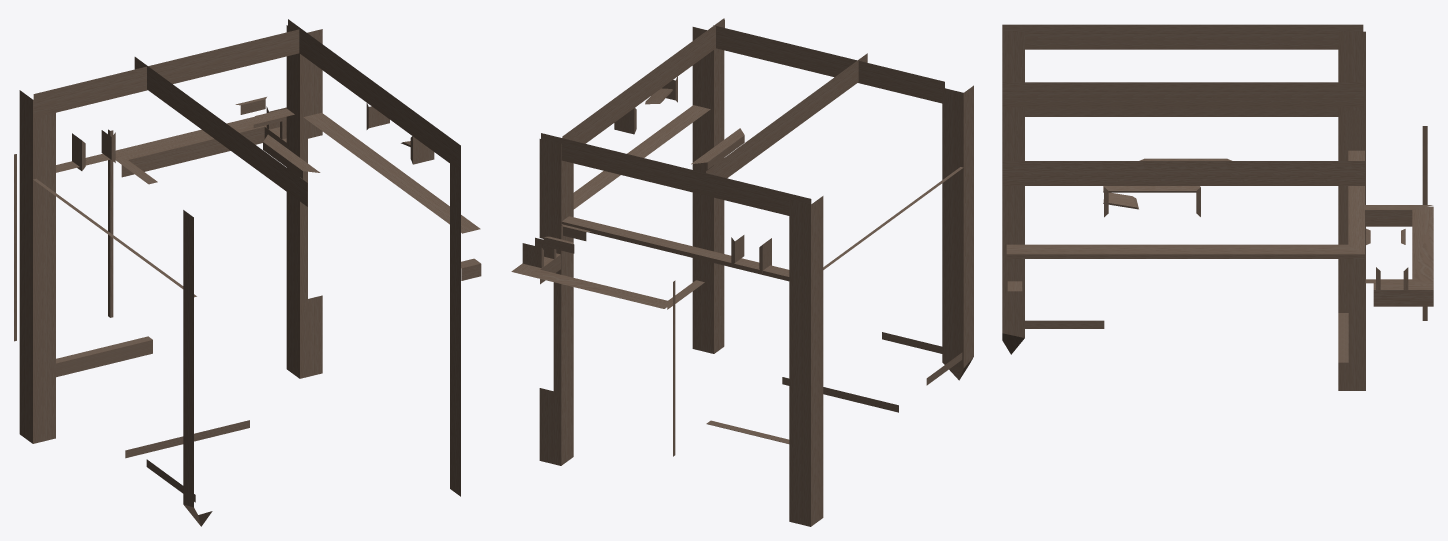
The model's file is kd_stage_135b75_4_33_bounded_portal.glb.
The picture shows the model from 3 angles, left to right: view 1: azimuth 30°, elevation 25°; view 2: azimuth 150°, elevation 25°; view 3: azimuth 270°, elevation 25°; orthographic projection. The views are drawn at different scales.
Visible parts, largest first — view 1: kd_stage_135b75_4_33_bounded_portal; view 2: kd_stage_135b75_4_33_bounded_portal; view 3: kd_stage_135b75_4_33_bounded_portal.
Boxes of the visible parts, <box> form: kd_stage_135b75_4_33_bounded_portal: <box>14,19,481,526</box>; kd_stage_135b75_4_33_bounded_portal: <box>511,18,973,526</box>; kd_stage_135b75_4_33_bounded_portal: <box>1002,24,1433,390</box>.
Size of the model in its own units: 3.79 by 4.39 by 4.68.
1 material, 1 textured.
